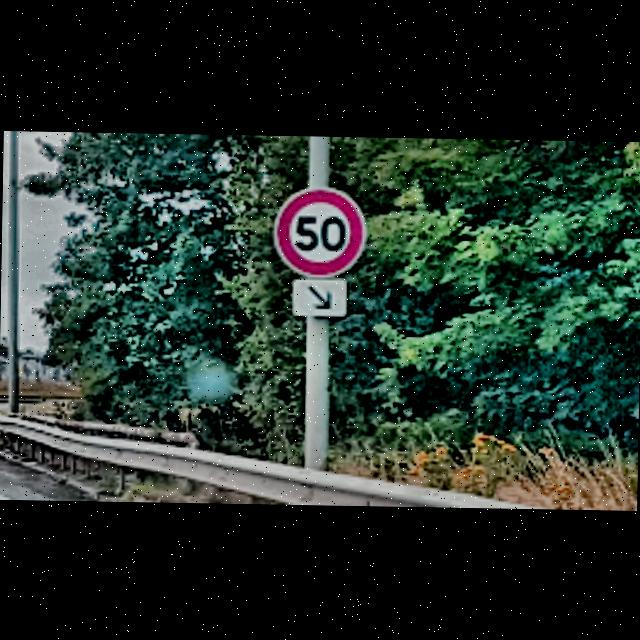speed_50: (272, 186, 369, 280)
